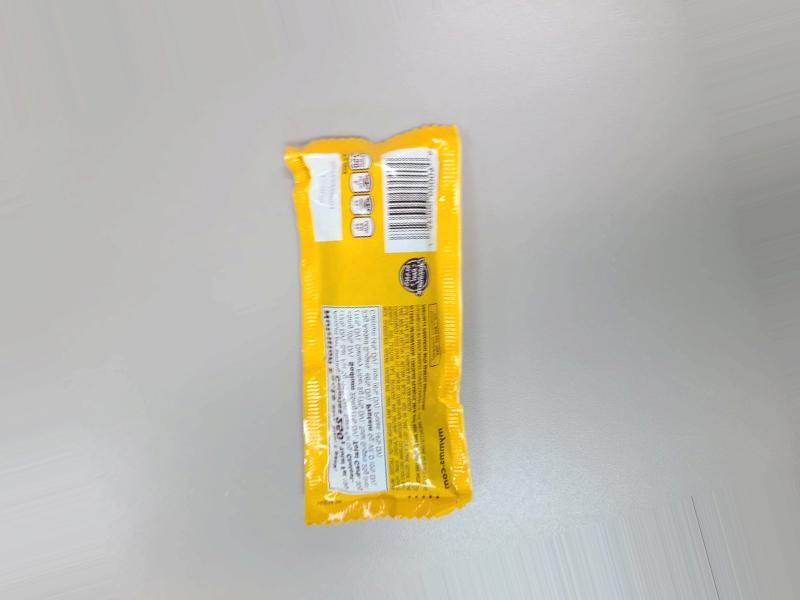m&m: (286, 124, 470, 508)
